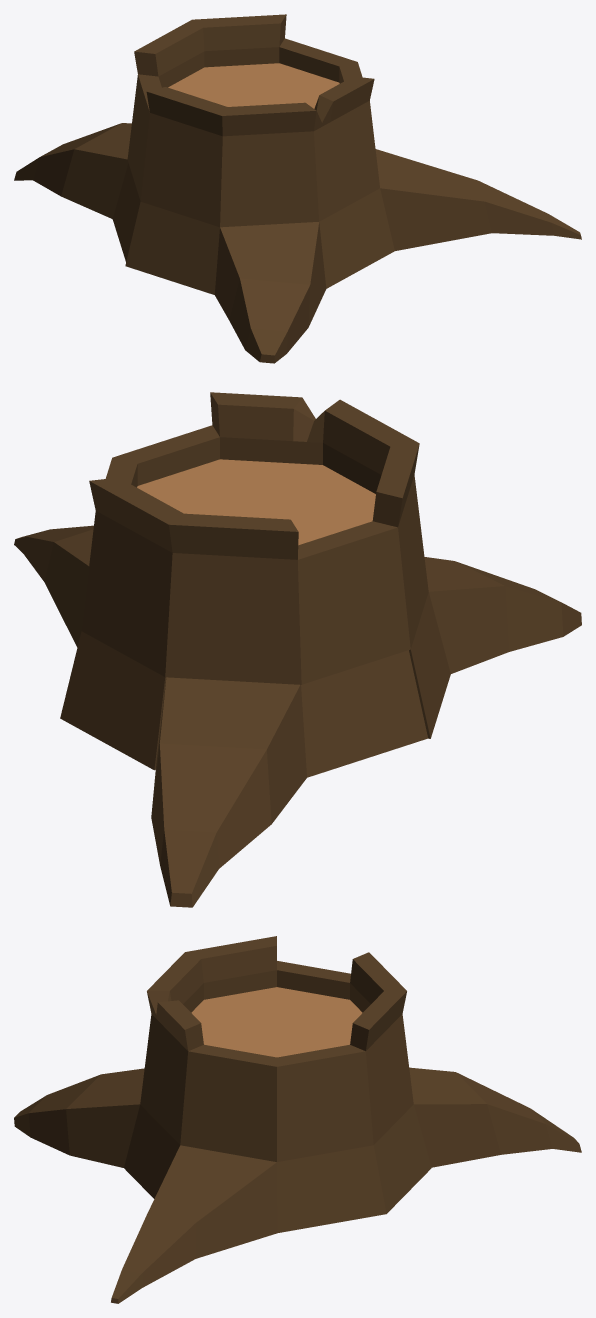
The picture shows the model from 3 angles, top to bottom: view 1: azimuth 30°, elevation 25°; view 2: azimuth 150°, elevation 25°; view 3: azimuth 270°, elevation 25°; orthographic projection. The views are drawn at different scales.
Parts seen in each view (by area): view 1: Circle; view 2: Circle; view 3: Circle.
Boxes of the visible parts, box(x1,y1,x2,y2) form: Circle: box(14, 14, 581, 363); Circle: box(14, 392, 581, 907); Circle: box(14, 936, 581, 1303).
Bounding box in the file's own units: 4.07 × 2.01 × 5.05.
